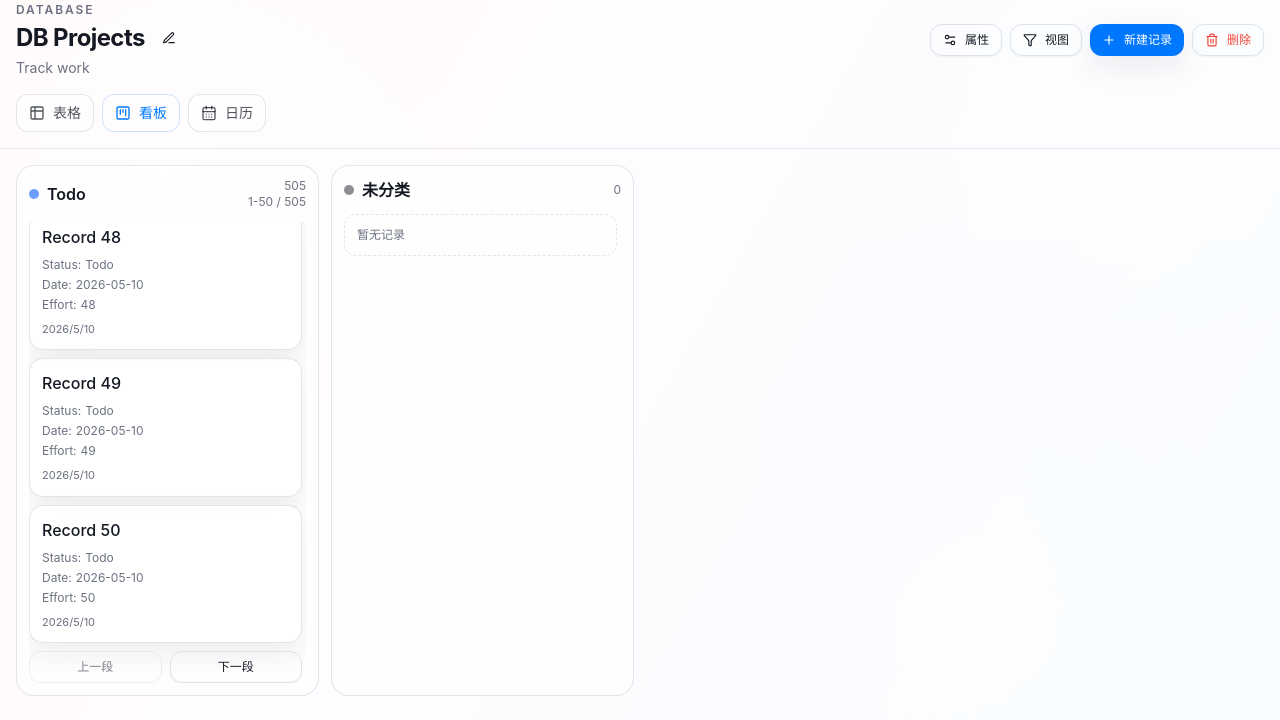
Test: DatabasePage › windows large board columns and pages cards on demand
This screenshot has width=1280, height=720.
(page scrolled)
Expected: the text named "board-column-window-todo" reads "1-50 / 505", [248,194,306,210]
Click the button with aria-label "board-column-next-todo" at (236, 667), box [170,651,302,683]
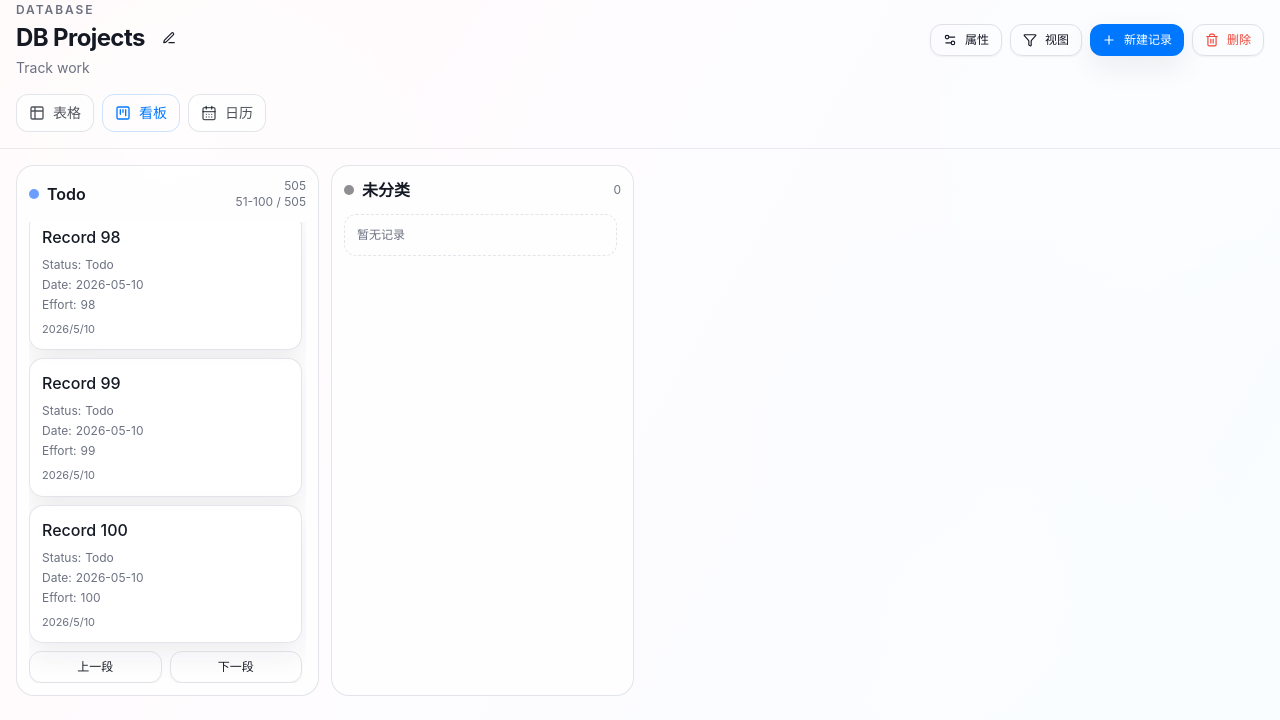
Expected: the text named "board-column-window-todo" reads "51-100 / 505", [236,194,306,210]
Click the button with aria-label "board-column-prev-todo" at (95, 667), box [29,651,162,683]
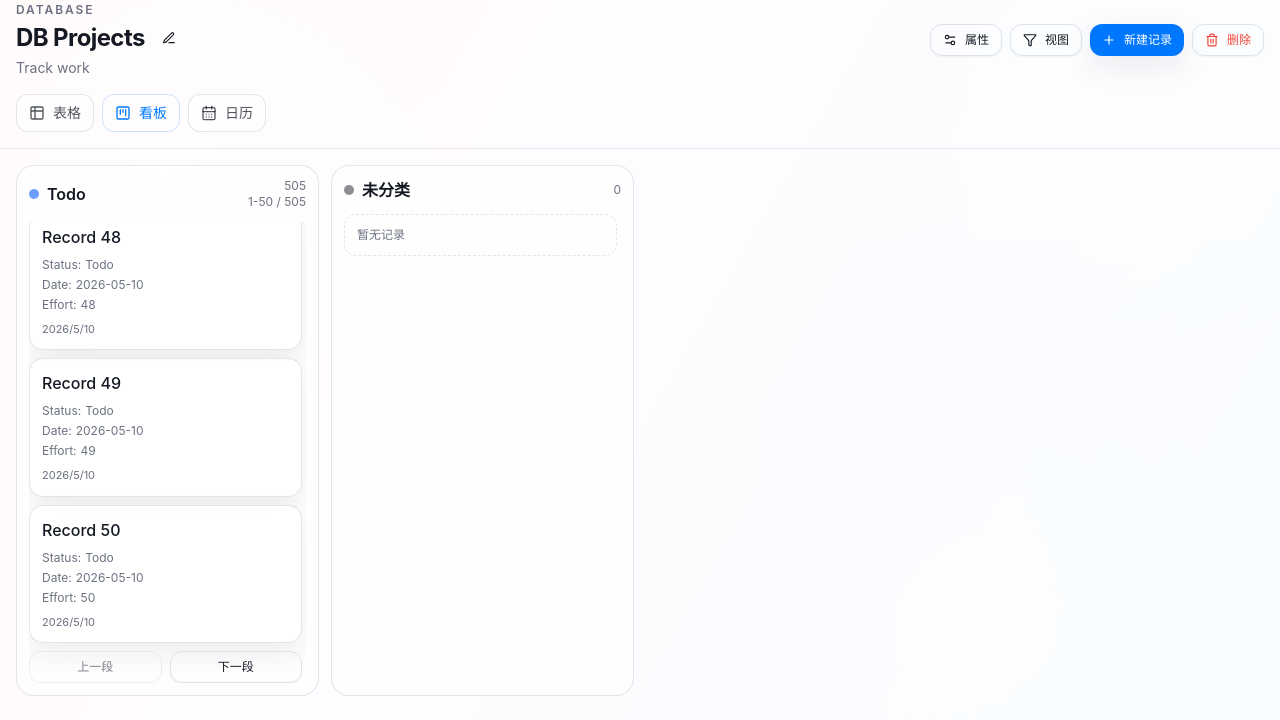
Expected: the text named "board-column-window-todo" reads "1-50 / 505", [248,194,306,210]
